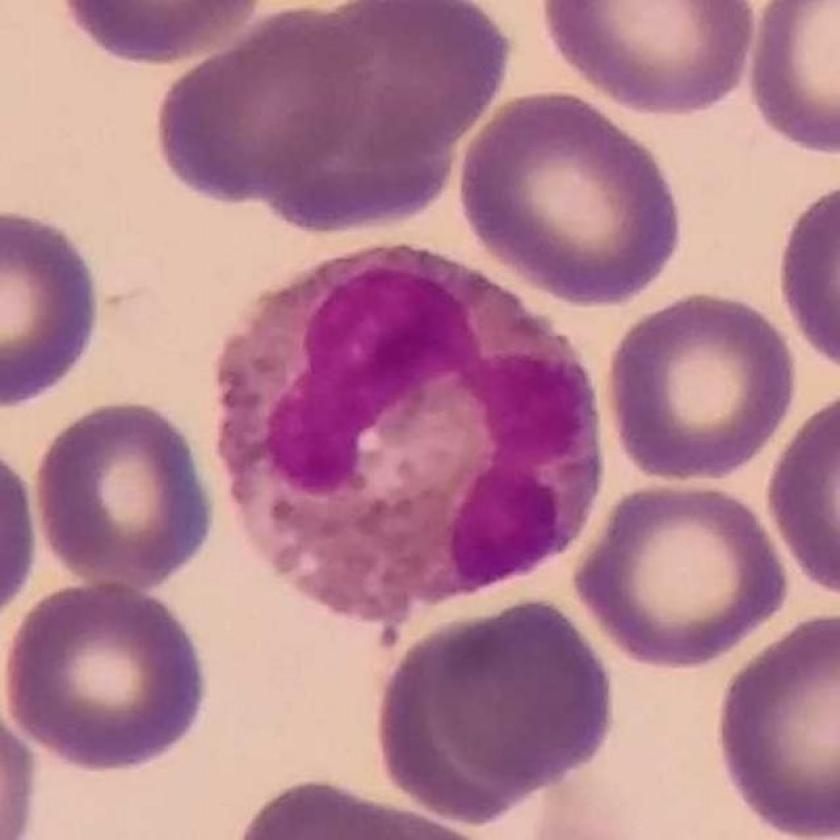eosinophil: (219, 240, 605, 631)
